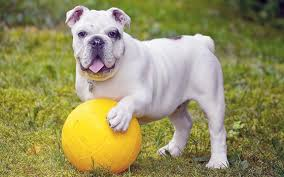Bulldog: (62, 8, 238, 167)
